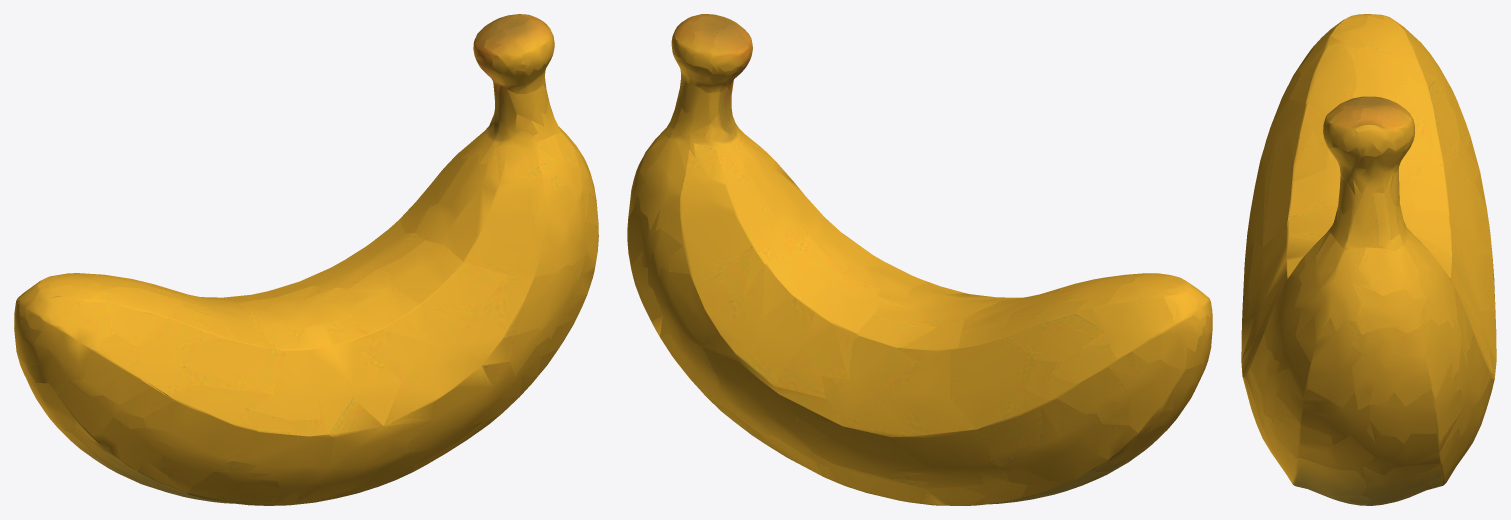
The model's file is banana.576faff2.glb.
The picture shows the model from 3 angles, left to right: view 1: azimuth 30°, elevation 25°; view 2: azimuth 150°, elevation 25°; view 3: azimuth 270°, elevation 25°; orthographic projection. The views are drawn at different scales.
Visible parts, largest first — view 1: output_unwrapped; view 2: output_unwrapped; view 3: output_unwrapped.
Part boxes in pixels (box(x1,y1,x2,y2)): output_unwrapped: box(14, 14, 598, 505); output_unwrapped: box(627, 14, 1212, 505); output_unwrapped: box(1241, 14, 1496, 505).
Size of the model in its own units: 1.9 by 1.34 by 0.6509.
Materials: 1 (1 with a texture image).
